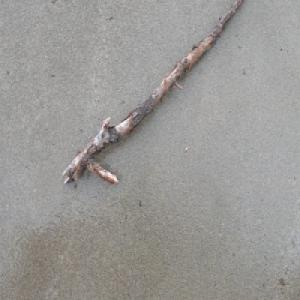Wood: (60, 0, 243, 188)
